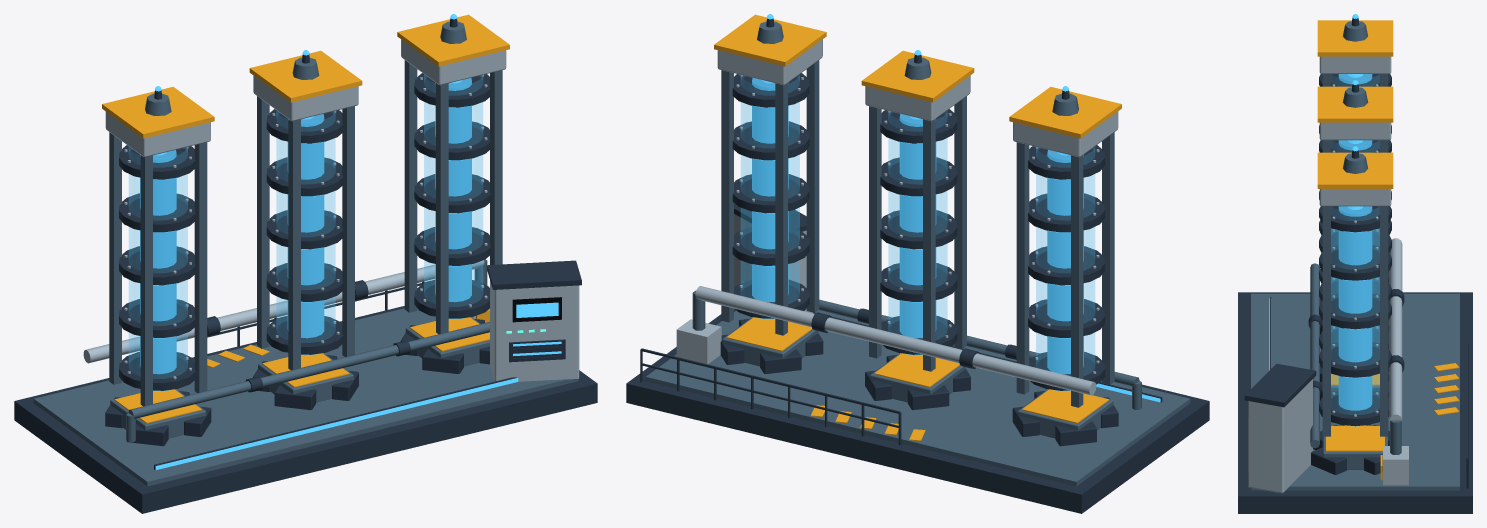
File: generator_bank.glb
3 views of the same model, side by side, from view 1: azimuth 30°, elevation 25°; view 2: azimuth 150°, elevation 25°; view 3: azimuth 270°, elevation 25° (orthographic). The views are drawn at different scales.
Visible parts, largest first — view 1: GeneratorBank, Tower1, Tower2, Tower3, Cabinet, Column2, Column3, Column1, PipeRun_2, Footing, Footing_2, Footing_3 (+4 smaller); view 2: GeneratorBank, Tower1, Tower3, Tower2, PipeRun, Footing, Footing_2, Footing_3, Column2, Column3, Column1, Pipes (+3 smaller); view 3: GeneratorBank, Tower3, Cabinet, Tower2, Tower1, Column3, Footing_3, PipeRun, Pipes, PipeRun_2, Chevrons, Railing (+3 smaller).
Part boxes in pixels (x1,y1,x2,y2): GeneratorBank: (14,306,597,513); Tower1: (102,86,214,406); Tower2: (249,50,362,370); Tower3: (397,14,509,334); Cabinet: (487,260,581,381); Column2: (287,114,324,338); Column3: (435,78,471,302); Column1: (140,150,176,374); PipeRun_2: (128,322,489,418); Footing: (105,389,211,446); Footing_2: (253,353,358,410); Footing_3: (400,317,489,373); GeneratorBank: (626,308,1209,513); Tower1: (1009,86,1121,407); Tower3: (714,14,826,335); Tower2: (861,50,974,371); PipeRun: (695,286,1096,395); Footing: (1012,389,1118,446); Footing_2: (865,353,970,410); Footing_3: (720,317,823,373); Column2: (899,114,936,338); Column3: (752,78,788,302); Column1: (1047,150,1083,374); Pipes: (676,290,1141,409); GeneratorBank: (1238,292,1472,513); Tower3: (1317,152,1393,436); Cabinet: (1244,363,1316,493); Tower2: (1317,86,1393,349); Tower1: (1317,20,1393,283); Column3: (1338,206,1372,410); Footing_3: (1311,425,1389,474); PipeRun: (1389,238,1402,421); Pipes: (1308,289,1408,485); PipeRun_2: (1310,263,1319,448); Chevrons: (1434,363,1459,415); Railing: (1466,342,1468,488).
Size of the model in its own units: 8.64 by 6.5 by 4.17.
